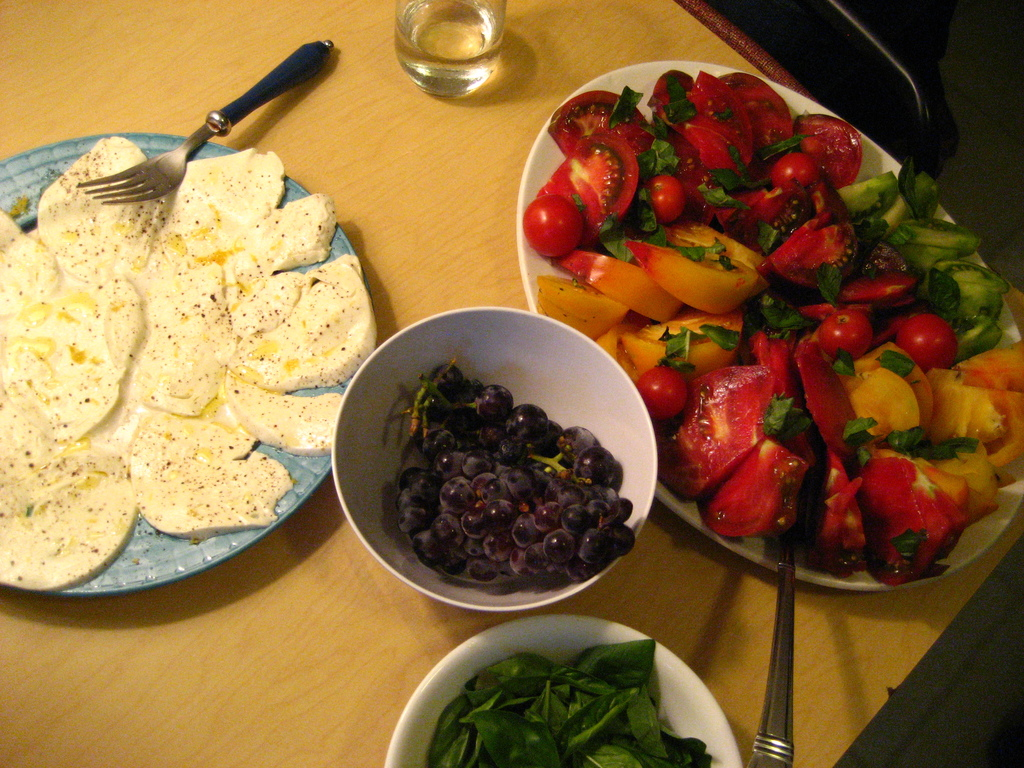Tomato: (636, 267, 958, 566), (528, 80, 869, 262), (856, 454, 963, 555)
